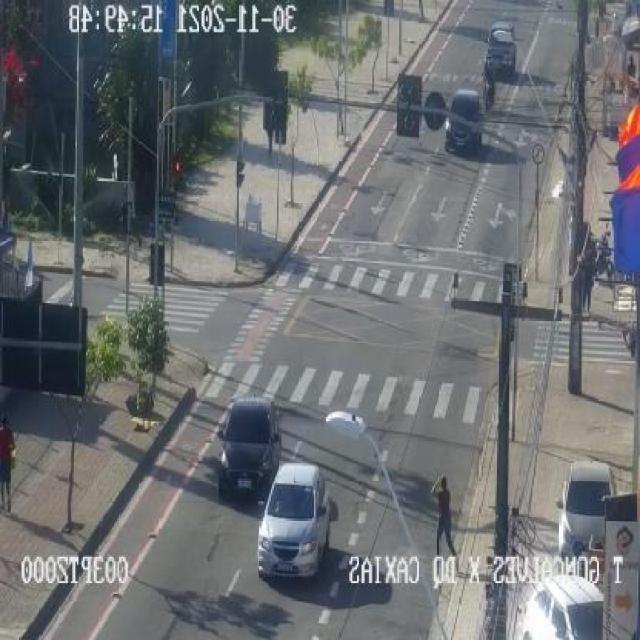Car: (256, 464, 331, 577), (216, 397, 280, 495), (517, 574, 604, 638), (558, 460, 616, 554), (445, 89, 483, 156), (484, 23, 518, 80)
Cycle: (486, 85, 494, 112)
